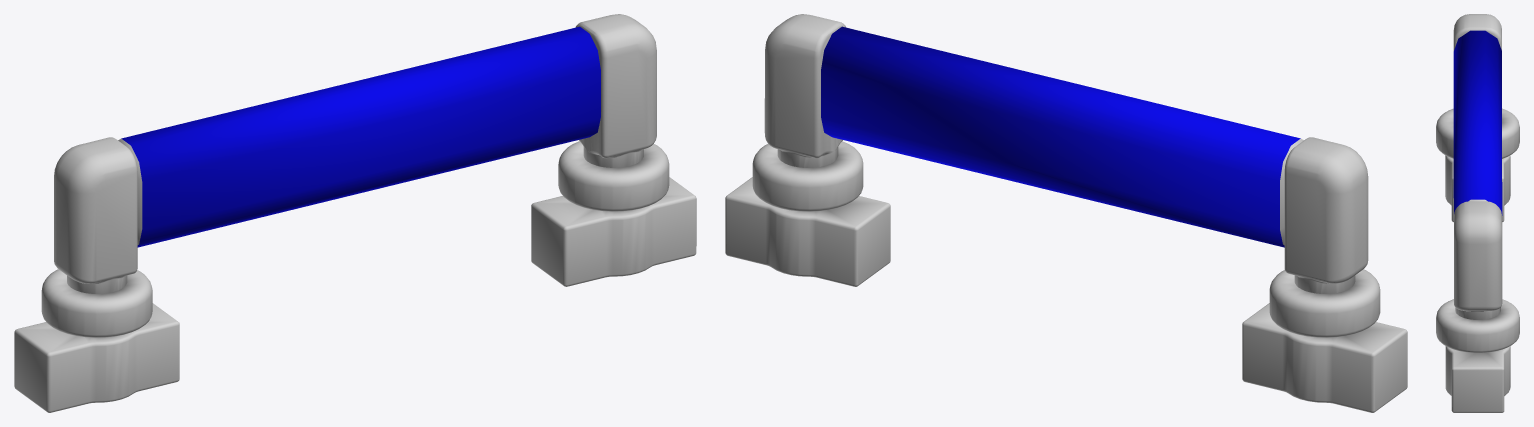
File: handrail_8_5.dae
3 renders of one model, left to right at view 1: azimuth 30°, elevation 25°; view 2: azimuth 150°, elevation 25°; view 3: azimuth 270°, elevation 25°, orthographic. The views are drawn at different scales.
Parts seen in each view (by area): view 1: handrail_8_5; view 2: handrail_8_5; view 3: handrail_8_5.
Boxes of the visible parts, x1,y1,x2,y2 form: handrail_8_5: [14, 14, 696, 412]; handrail_8_5: [725, 14, 1407, 412]; handrail_8_5: [1436, 14, 1519, 412].
Size of the model in its own units: 0.2235 by 0.0331 by 0.0782.
